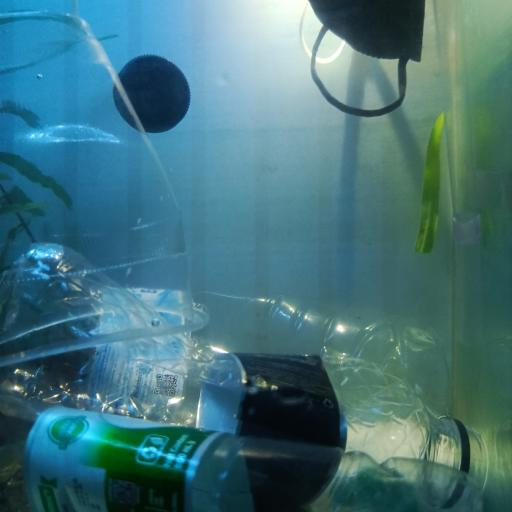bottle_cap: (114, 56, 191, 134)
mask: (307, 0, 425, 118)
plastic_bottle: (0, 239, 487, 512), (0, 386, 481, 511), (20, 285, 450, 420)
plastic_cup: (0, 10, 207, 365)
